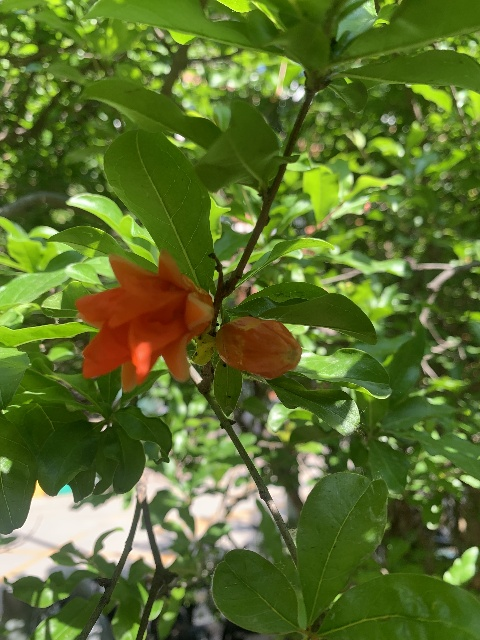bud: (216, 316, 302, 379)
flower: (74, 250, 213, 392)
